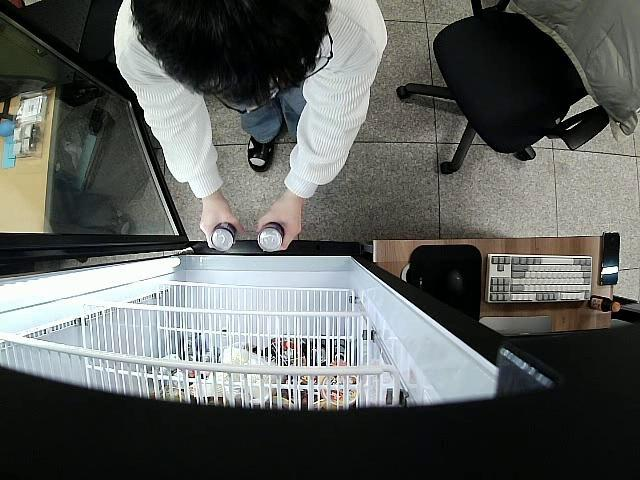16_hot6: (206, 220, 238, 254), (256, 223, 286, 253)
